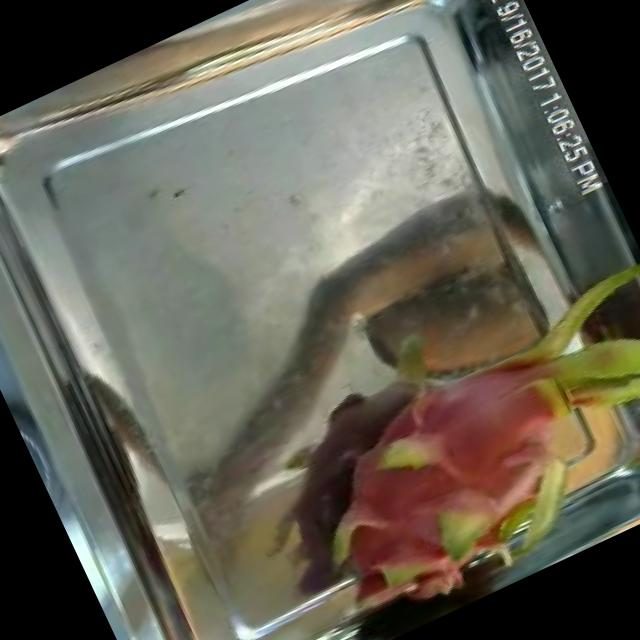Fruit: (349, 228, 580, 422)
